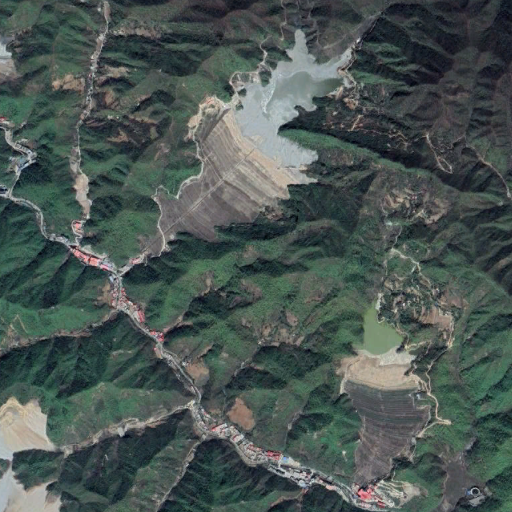tp: (142, 30, 354, 253), (344, 296, 437, 493)
